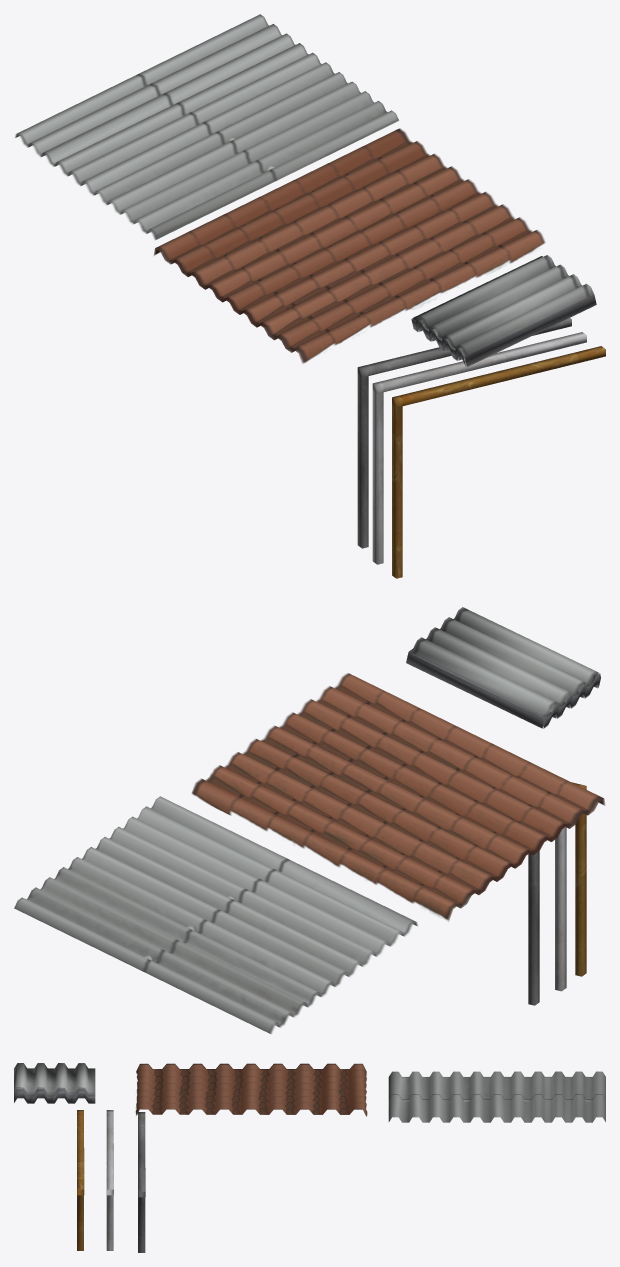
The model's file is telhados_avulsos.glb.
3 views of the same model, one above another, from view 1: azimuth 30°, elevation 25°; view 2: azimuth 150°, elevation 25°; view 3: azimuth 270°, elevation 25° (orthographic). The views are drawn at different scales.
Visible parts, largest first — view 1: Cube.002, Cube.003, Cube.001, Cube.005, Cube.004, Cube.006; view 2: Cube.002, Cube.003, Cube.001, Cube.004, Cube.005, Cube.006; view 3: Cube.002, Cube.003, Cube.001, Cube.005, Cube.006, Cube.004.
Part boxes in pixels (x1,y1,x2,y2): Cube.002: (154, 128, 545, 363); Cube.003: (15, 14, 398, 239); Cube.001: (411, 255, 596, 366); Cube.005: (372, 332, 586, 564); Cube.004: (392, 346, 605, 578); Cube.006: (357, 318, 571, 548); Cube.002: (192, 673, 604, 921); Cube.003: (14, 796, 417, 1033); Cube.001: (406, 607, 600, 728); Cube.004: (571, 782, 586, 976); Cube.005: (555, 827, 566, 991); Cube.006: (528, 851, 539, 1005); Cube.002: (135, 1063, 367, 1116); Cube.003: (388, 1071, 605, 1122); Cube.001: (14, 1063, 95, 1103); Cube.005: (106, 1110, 113, 1250); Cube.006: (138, 1112, 145, 1252); Cube.004: (77, 1110, 84, 1250).
Bounding box in the file's own units: 5.27 × 5.21 × 12.76.
1 material, 1 textured.
